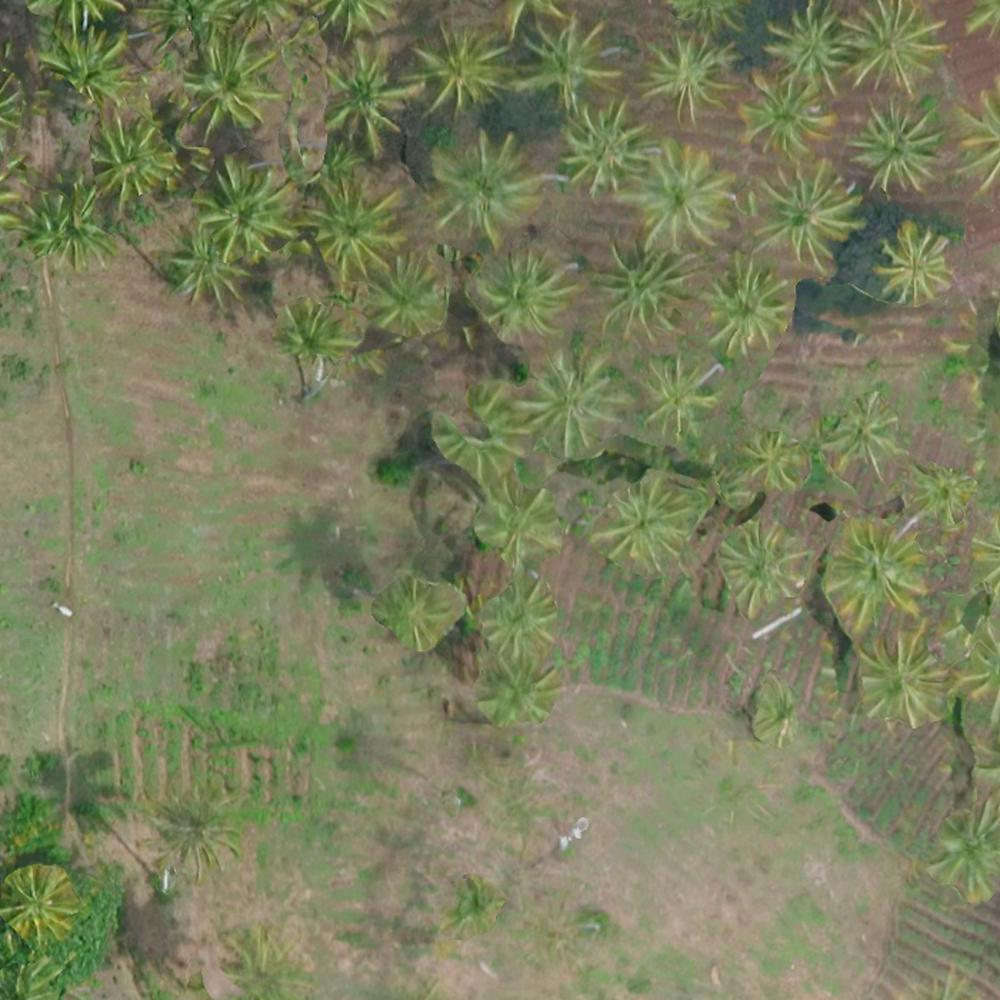Palm: (424, 133, 538, 244), (313, 46, 422, 158), (294, 173, 403, 284), (750, 164, 864, 265), (625, 144, 731, 248), (192, 159, 294, 262), (590, 239, 692, 341), (514, 15, 618, 110), (829, 521, 922, 626), (522, 352, 619, 452), (181, 33, 280, 128), (409, 21, 510, 114), (847, 2, 945, 97), (462, 248, 564, 339), (594, 476, 690, 571), (846, 98, 943, 192), (82, 116, 175, 214), (37, 30, 134, 119), (857, 633, 947, 728), (146, 784, 241, 873), (28, 175, 114, 272), (555, 107, 651, 192), (705, 261, 794, 352), (646, 28, 738, 116), (819, 394, 912, 480), (720, 526, 808, 614), (768, 5, 854, 95), (738, 76, 830, 155), (478, 479, 561, 561), (165, 221, 246, 305), (641, 355, 721, 436), (931, 805, 1000, 898), (877, 223, 955, 304), (362, 258, 446, 332), (280, 300, 367, 371), (379, 573, 460, 647), (481, 574, 559, 650), (476, 652, 557, 725), (1, 868, 71, 944), (909, 462, 975, 527), (735, 429, 795, 495)
